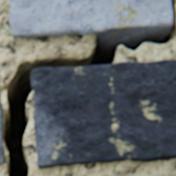brick: (31, 61, 175, 168), (9, 0, 172, 38), (0, 108, 4, 165)
crack: (2, 0, 175, 175)
